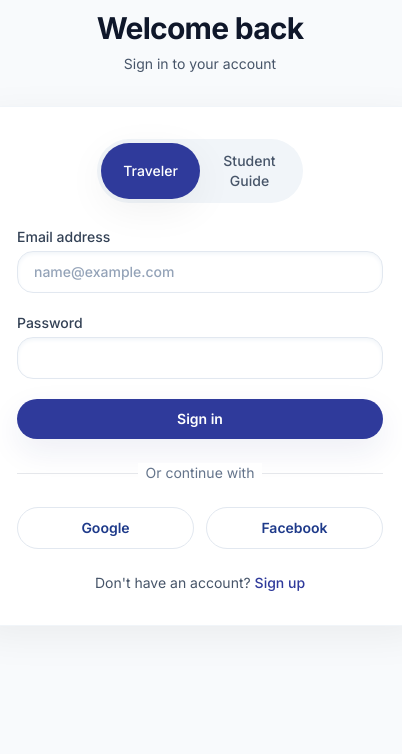
Test: RegisterPage (AuthPage) › Edu Mail Validation: Error for invalid email for Student Guide
Switch to Register mode
Click the button "Sign up" at [280, 583], box 255,573 -> 305,593
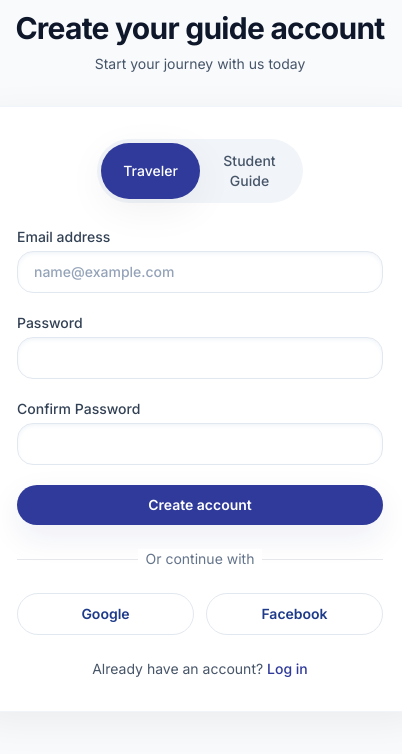
Select Student Guide role
Click the button "Student Guide" at [250, 171], box 200,143 -> 299,199
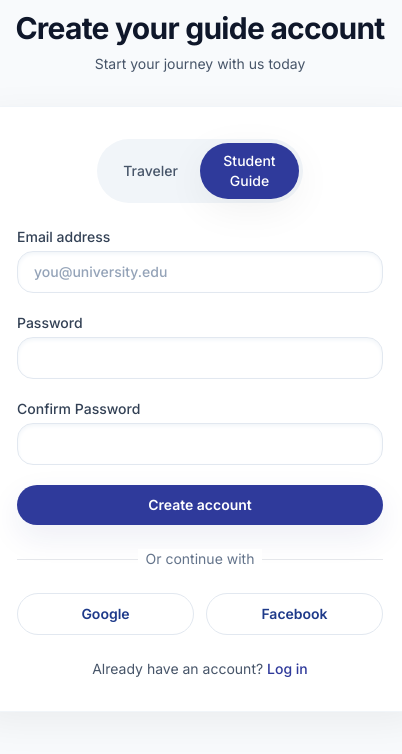
Type "test@gmail.com" into the field labelled "Email address" at [200, 272], box 17,251 -> 383,293
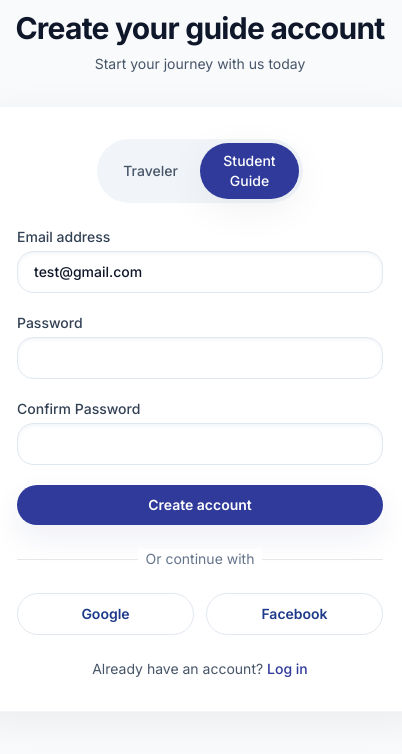
Type password
Type "password123" into the password field labelled "Password" at [200, 358], box 17,337 -> 383,379
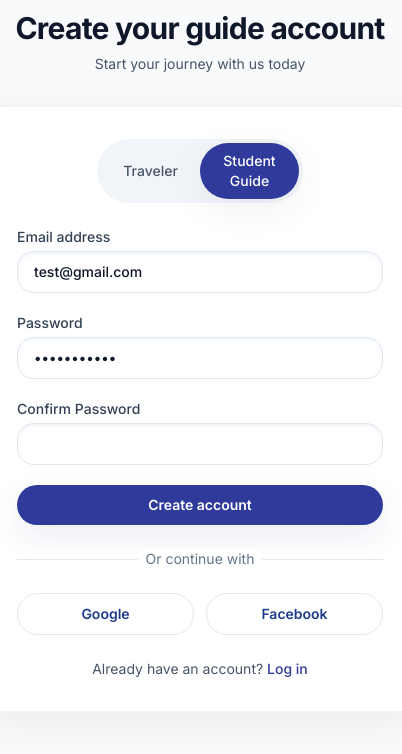
Auth.tsx renders confirm password only in register mode
Type "password123" into the password field labelled "Confirm Password" at [200, 444], box 17,423 -> 383,465
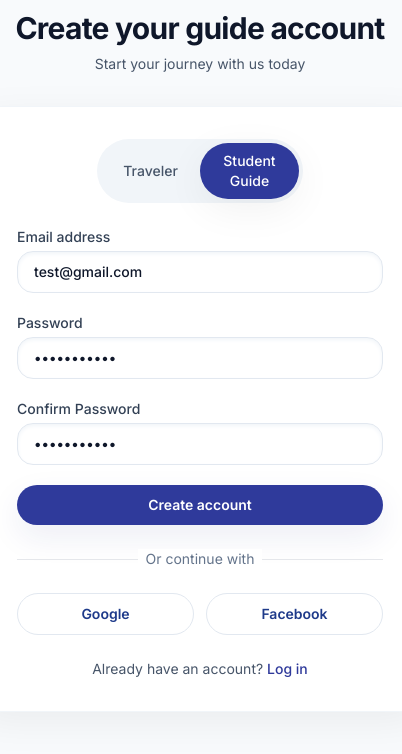
Click Register
Click the button "Create account" at [200, 505], box 17,485 -> 383,525
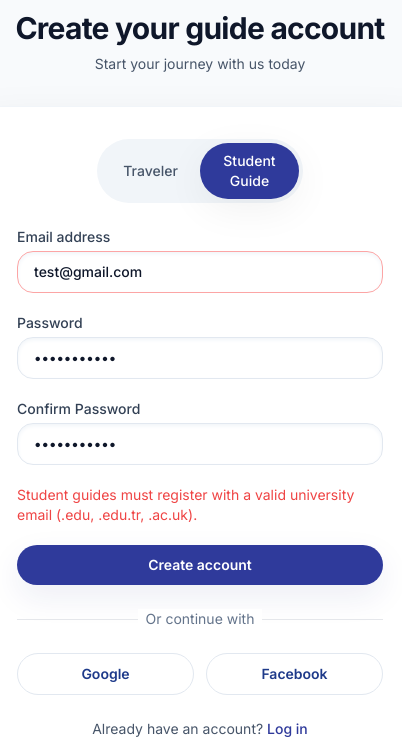
Result: the text "Student guides must register with a valid university email" is shown at 17,486 -> 354,523
